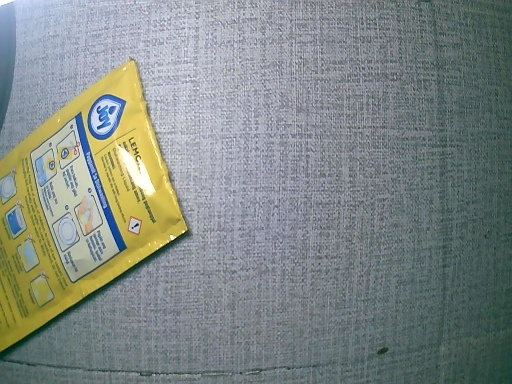plastic: (1, 56, 182, 364)
